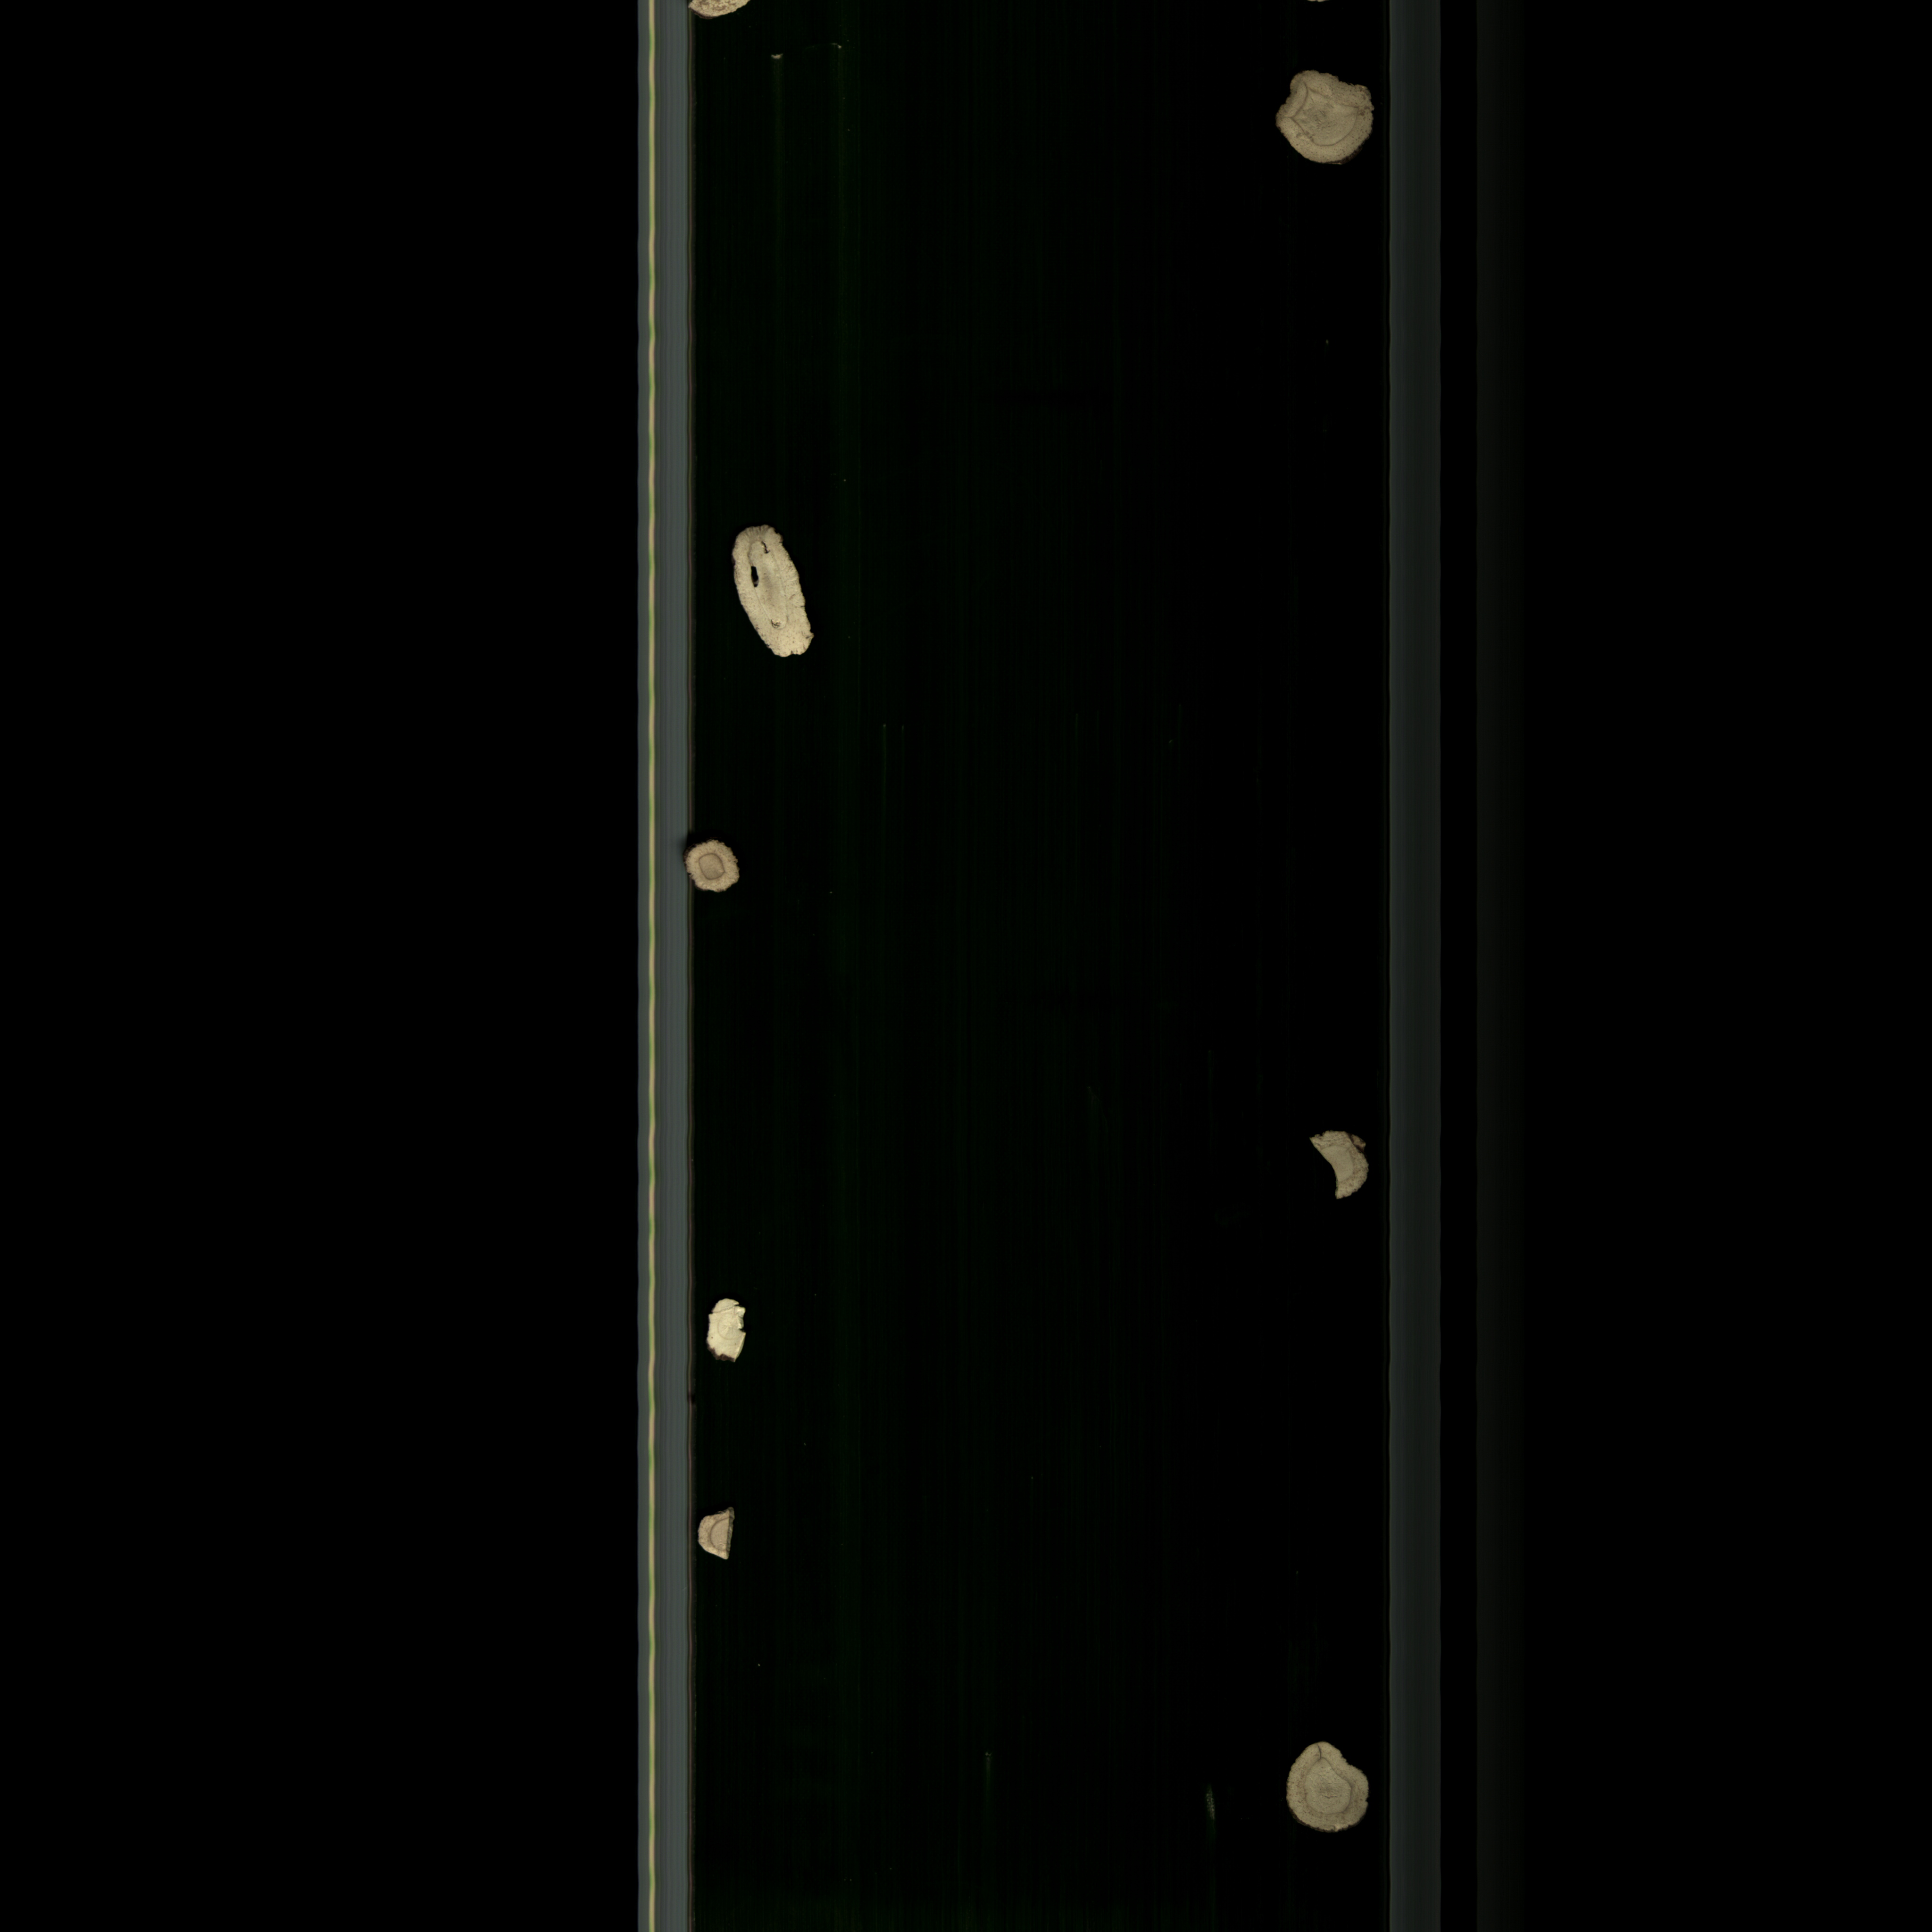debris: (1288, 1123, 1384, 1208)
distortion: (1269, 62, 1382, 172)
dreg: (695, 1502, 757, 1582), (699, 1286, 754, 1375)
hole: (722, 524, 826, 671)
moldy: (672, 830, 752, 895)
